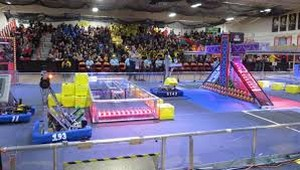cube: (154, 103, 175, 119), (74, 95, 89, 108), (64, 91, 75, 107), (74, 73, 88, 85), (48, 94, 62, 106), (75, 83, 89, 94), (269, 82, 284, 91), (63, 83, 75, 94), (165, 77, 177, 88), (285, 86, 297, 94)
